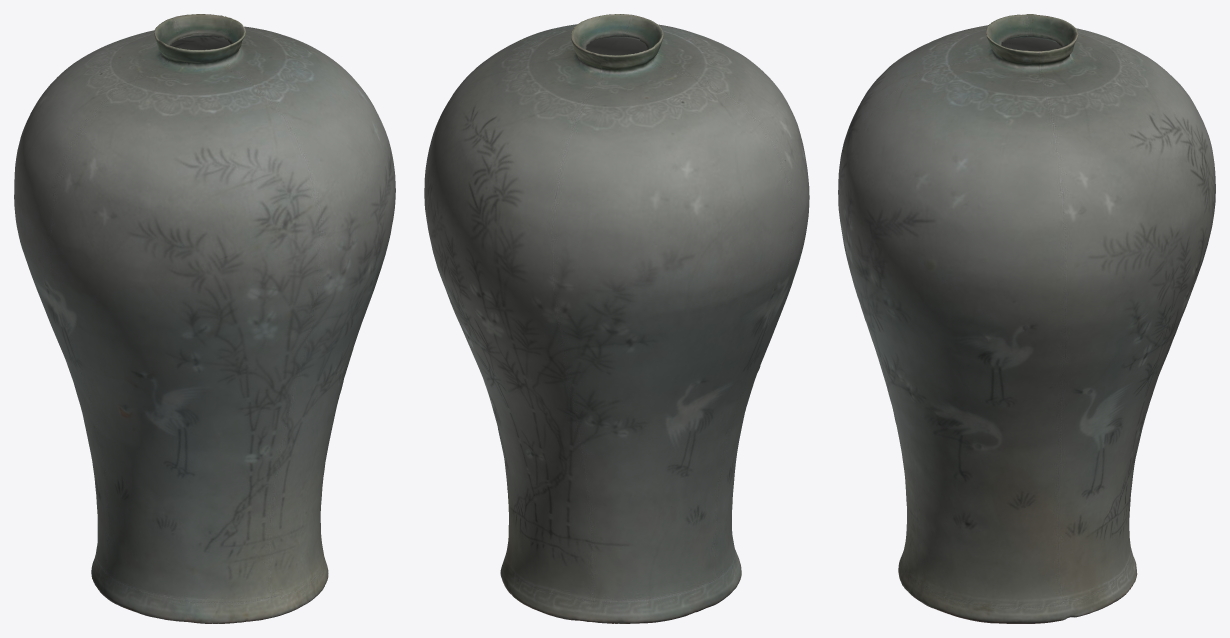
File: celadon-plum-bamboo-maebyeong.glb
3 renders of one model, left to right at view 1: azimuth 30°, elevation 25°; view 2: azimuth 150°, elevation 25°; view 3: azimuth 270°, elevation 25°, orthographic.
Parts seen in each view (by area): view 1: koo010256-000-30000; view 2: koo010256-000-30000; view 3: koo010256-000-30000.
Part boxes in pixels (left/top/right/bottom): koo010256-000-30000: left=14, top=14, right=395, bottom=623; koo010256-000-30000: left=424, top=14, right=809, bottom=623; koo010256-000-30000: left=838, top=14, right=1215, bottom=623.
Bounding box in the file's own units: 251 × 395 × 248.
1 material, 1 textured.
